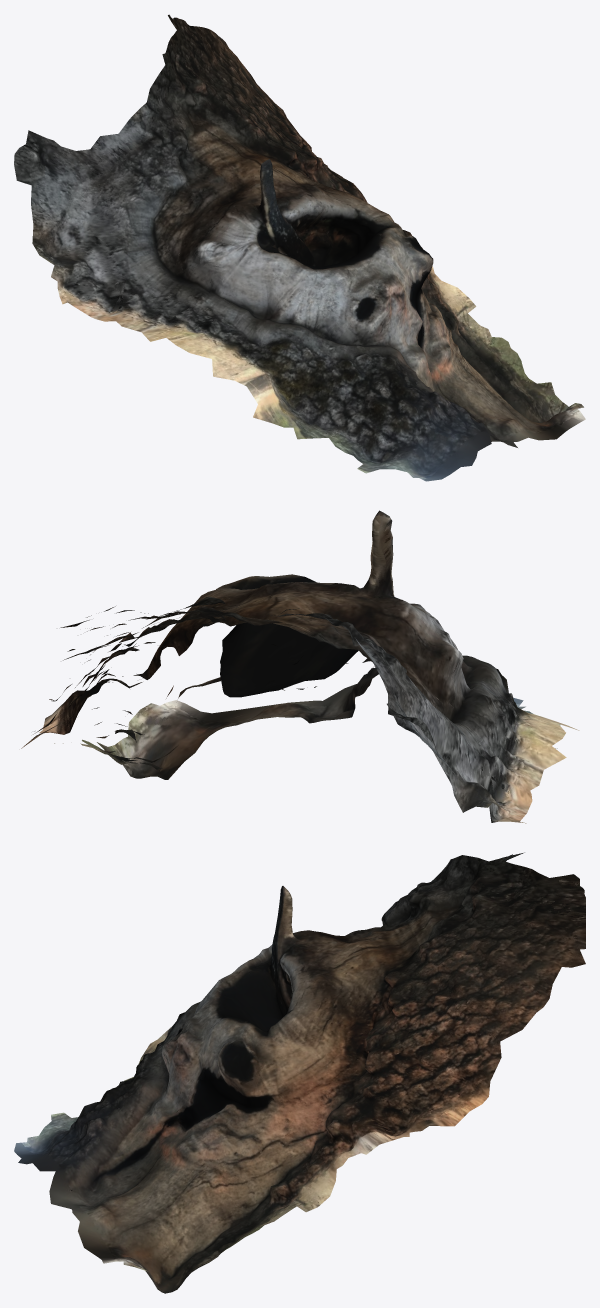
The model's file is model16_prev.glb.
3 renders of one model, top to bottom at view 1: azimuth 30°, elevation 25°; view 2: azimuth 150°, elevation 25°; view 3: azimuth 270°, elevation 25°, orthographic. The views are drawn at different scales.
Size of the model in its own units: 5.92 by 4.48 by 7.15.
Materials: 1 (1 with a texture image).
